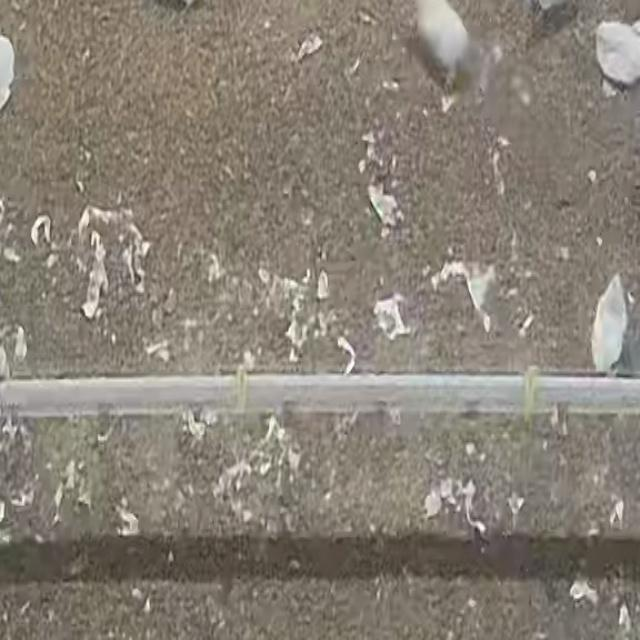chicken: (586, 269, 632, 374)
